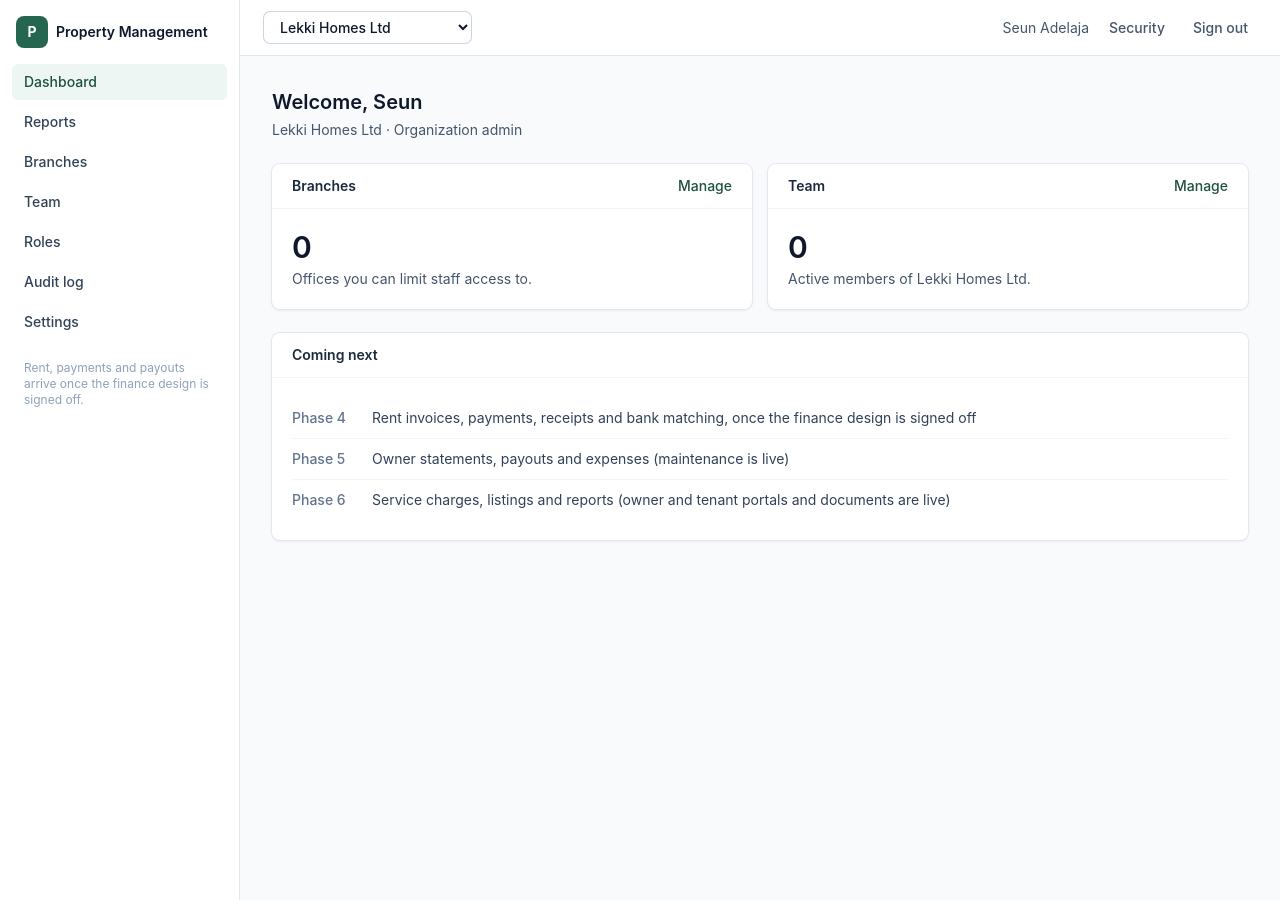
Test: routing and access › switching organization sends the new organization on later requests
Select "XYZ Estate Services" in the dropdown named "Organization": (368, 28) [264, 12, 471, 43]
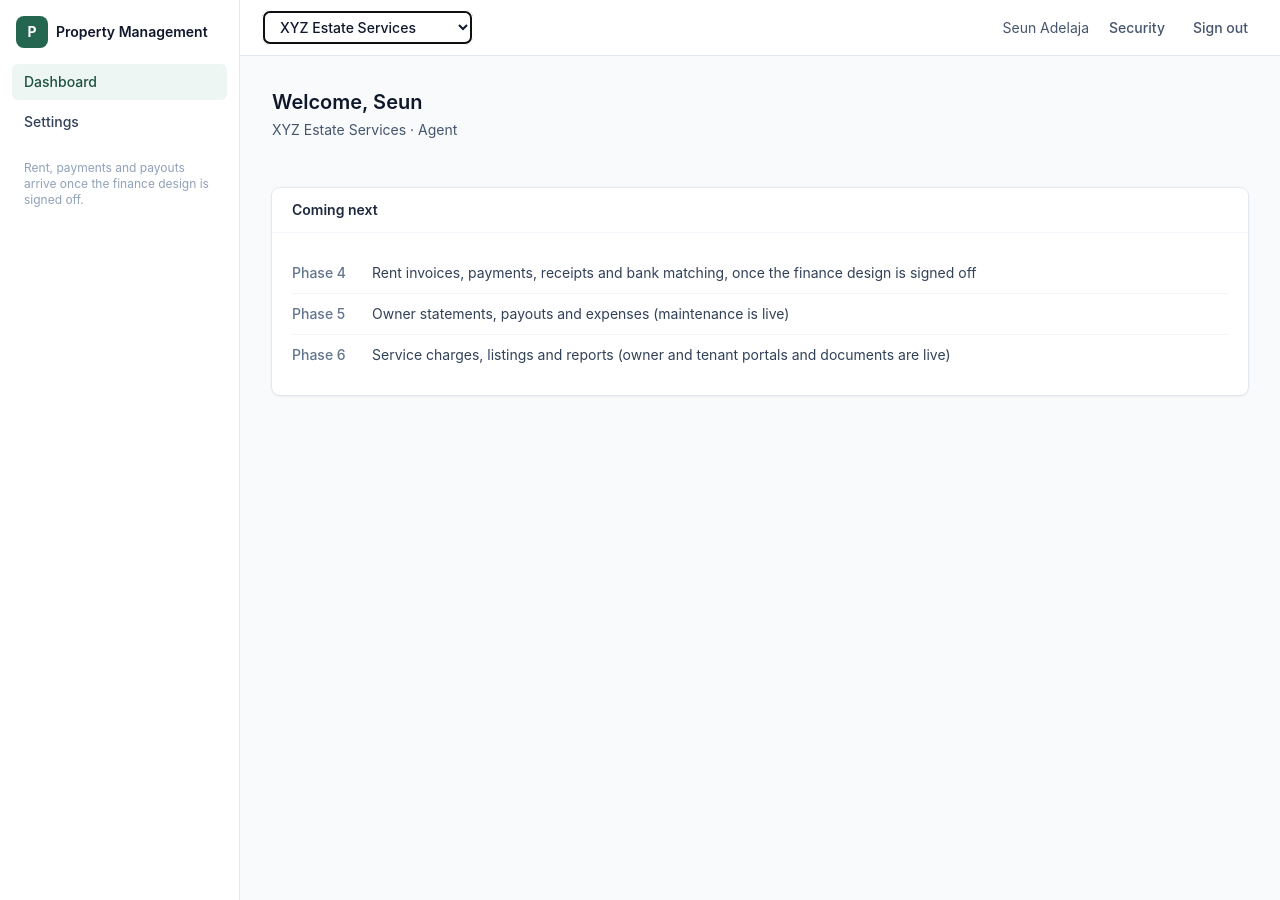
Result: the navigation bar named "Main" no longer shows "Team" at [0, 64, 239, 224]
